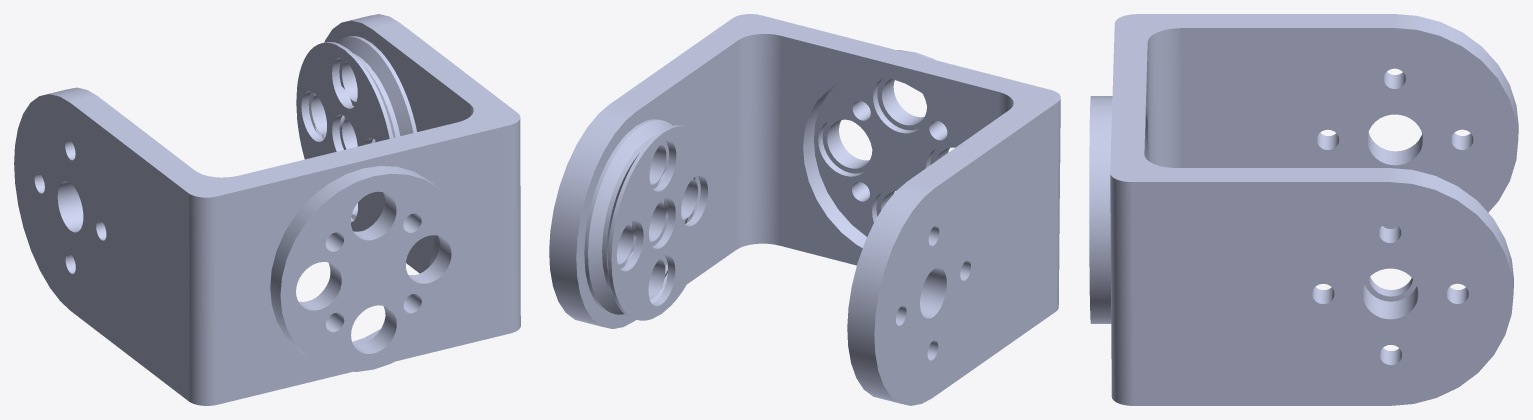
3 views of the same model, side by side, from view 1: azimuth 30°, elevation 25°; view 2: azimuth 150°, elevation 25°; view 3: azimuth 270°, elevation 25° (orthographic). The views are drawn at different scales.
Parts seen in each view (by area): view 1: Cut_Extrude6_DC_Shell, NONE_DC_Shell; view 2: Cut_Extrude6_DC_Shell, NONE_DC_Shell; view 3: Cut_Extrude6_DC_Shell, NONE_DC_Shell.
Boxes of the visible parts, <box> form: Cut_Extrude6_DC_Shell: <box>14,14,520,405</box>; NONE_DC_Shell: <box>296,36,416,231</box>; Cut_Extrude6_DC_Shell: <box>549,14,1060,405</box>; NONE_DC_Shell: <box>584,119,713,320</box>; Cut_Extrude6_DC_Shell: <box>1089,14,1518,405</box>; NONE_DC_Shell: <box>1364,228,1417,305</box>.
Size of the model in its own units: 36.51 by 22.37 by 38.37.
